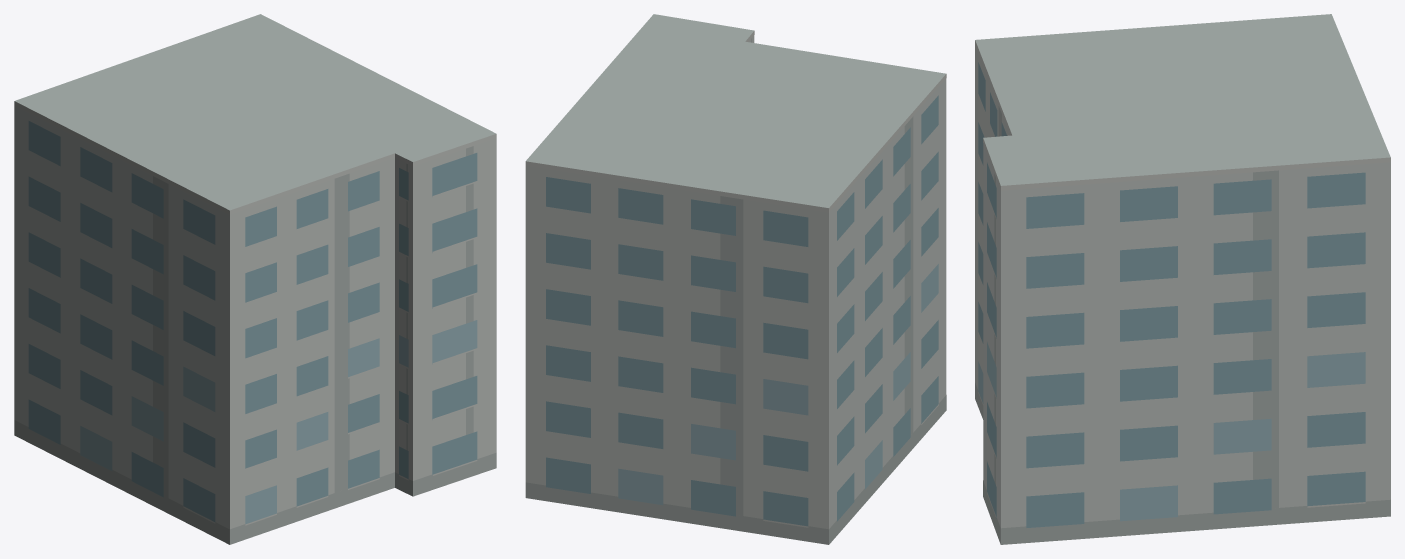
File: survey-upis-32835623.glb
3 renders of one model, left to right at view 1: azimuth 30°, elevation 25°; view 2: azimuth 150°, elevation 25°; view 3: azimuth 270°, elevation 25°, orthographic. The views are drawn at different scales.
Parts seen in each view (by area): view 1: survey-upis-32835623.tmp; view 2: survey-upis-32835623.tmp; view 3: survey-upis-32835623.tmp.
Part boxes in pixels (<box>): survey-upis-32835623.tmp: <box>14,14,496,544</box>; survey-upis-32835623.tmp: <box>525,14,946,544</box>; survey-upis-32835623.tmp: <box>975,14,1390,544</box>.
Bounding box in the file's own units: 18.54 × 18.05 × 18.96.
